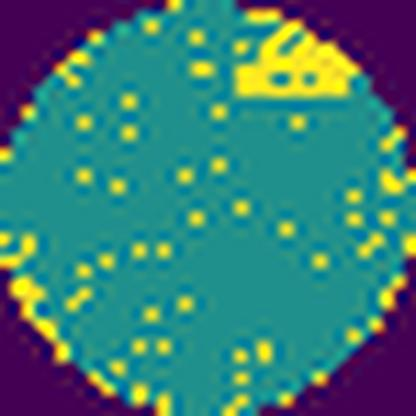Loc: (235, 20, 361, 98)
